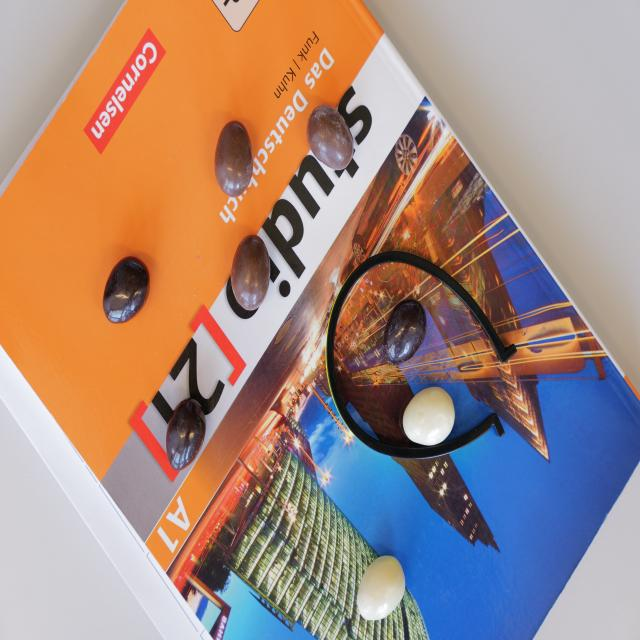Jelly_Black: (104, 256, 150, 324), (165, 398, 207, 472)
Jelly_Milk: (381, 297, 428, 367), (228, 233, 270, 311), (308, 103, 355, 171), (215, 119, 254, 196)
Jelly_White: (356, 554, 406, 623), (402, 385, 456, 447)
